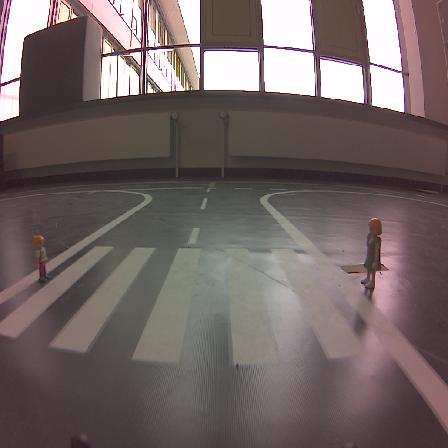CHILD: (32, 235, 49, 282)
PERSON: (361, 218, 381, 289)
